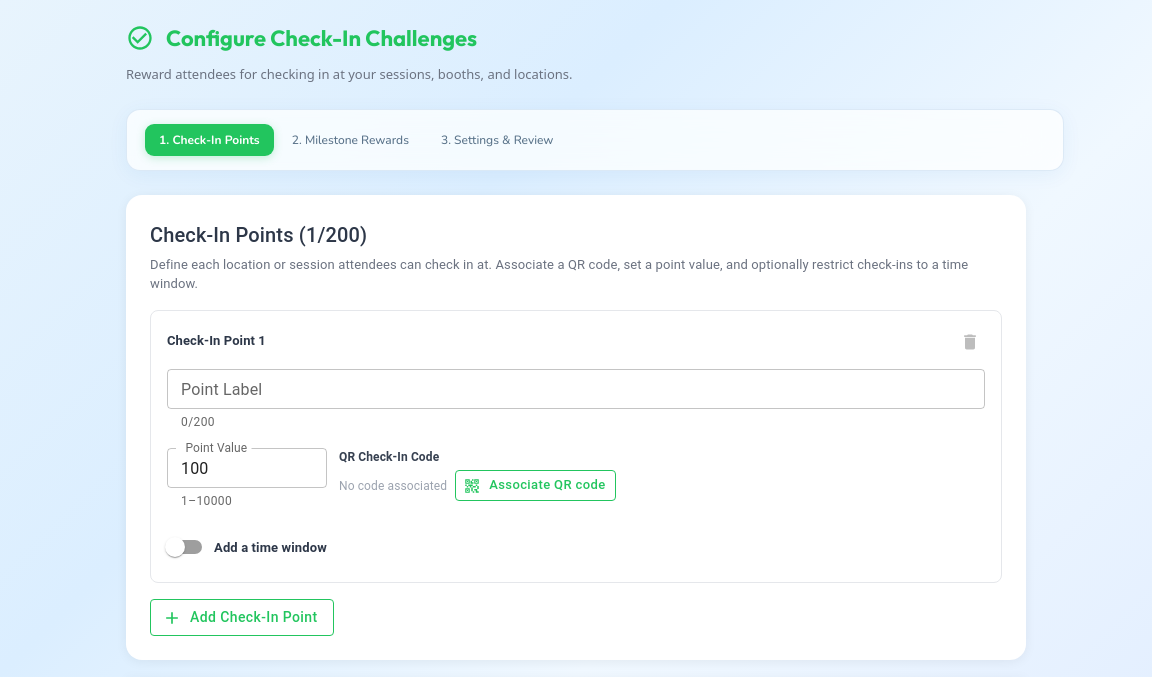
Test case: CheckInChallengeConfig › shows milestone type, reward-label, reward-points, and the per-type condition control
The image size is (1152, 677).
Click the button "2. Milestone Rewards": point(350, 140) [278,124,423,156]
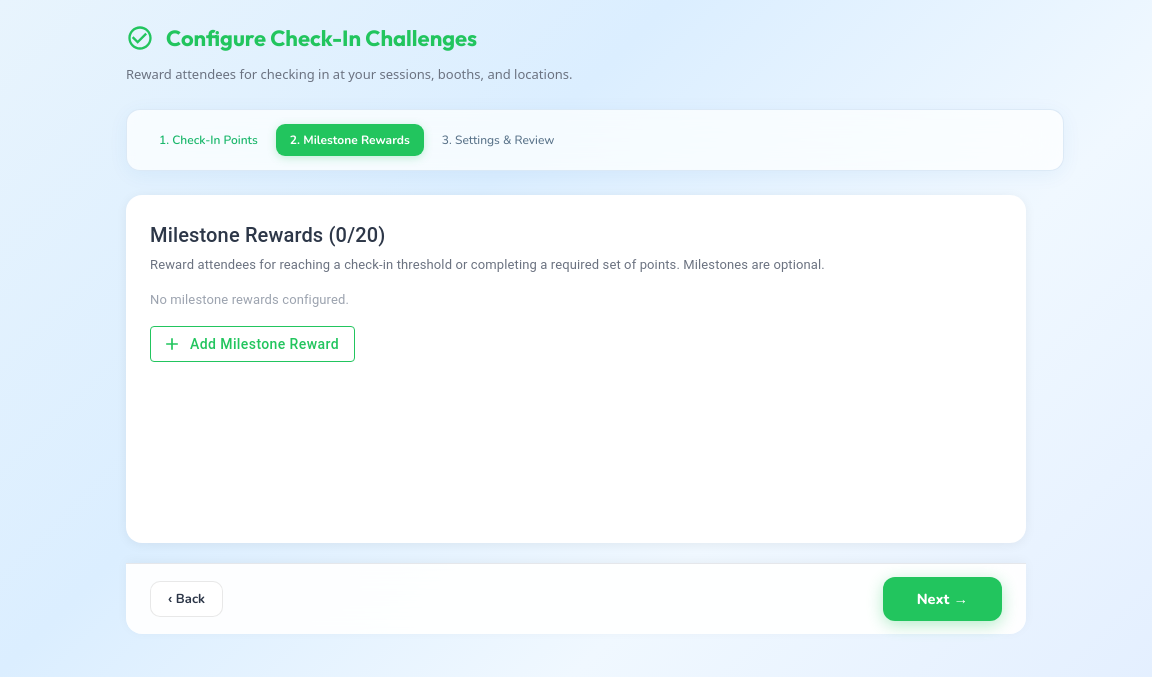
Click the button "Add Milestone Reward": point(252, 344) [150,326,355,362]
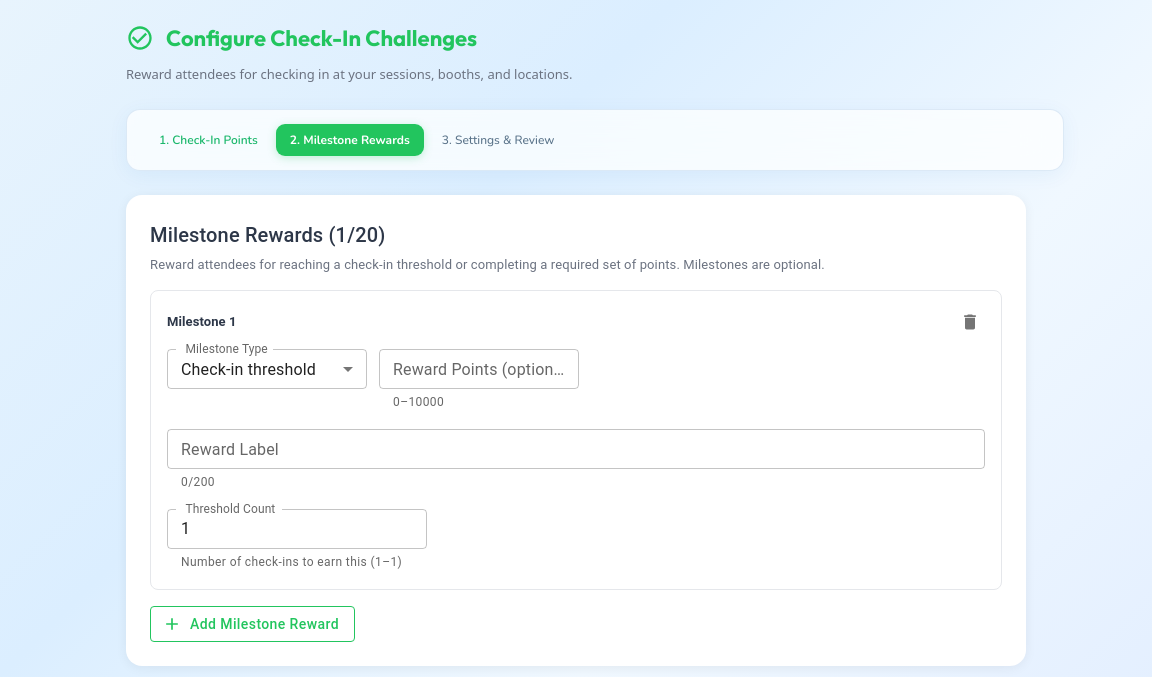
Expected: the element with test id "milestone-editor-0" is shown, [150,290,1002,590]
Expected: the dropdown named "Milestone type for milestone 1" is shown
Expected: the field labelled "Reward Label" is shown, [167,429,985,469]
Press the mouse on the dropdown named "Milestone type for milestone 1": point(248, 369) [181,360,316,378]
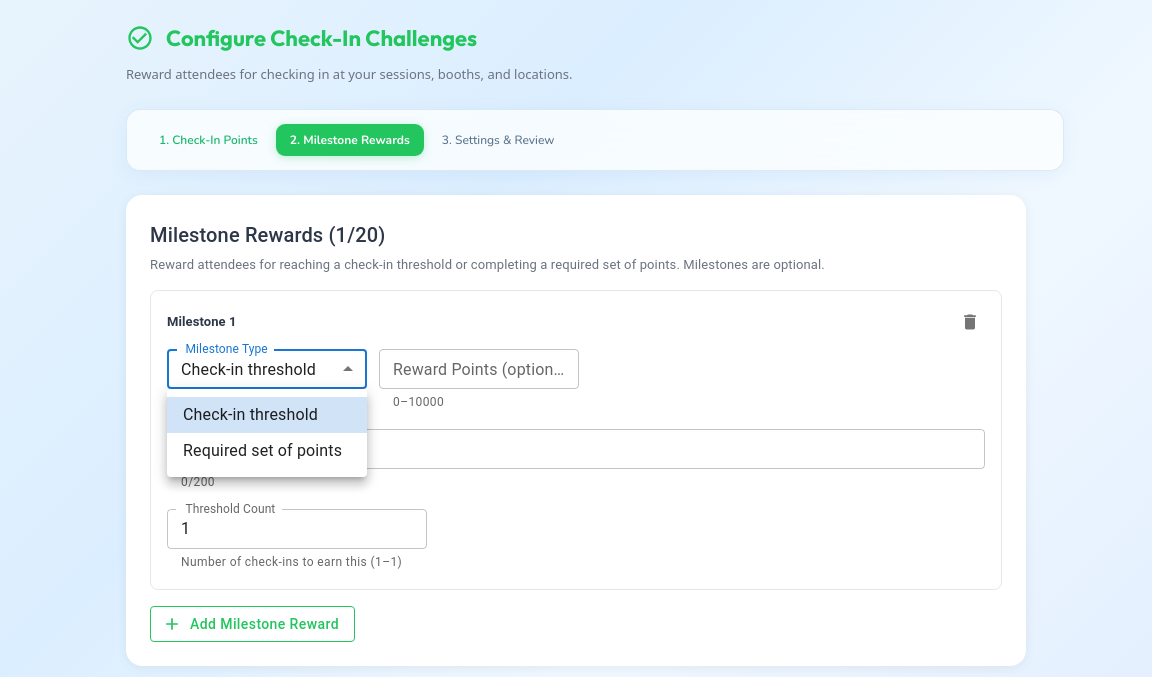
Click the option "Required set of points": point(263, 450) [183,441,342,460]
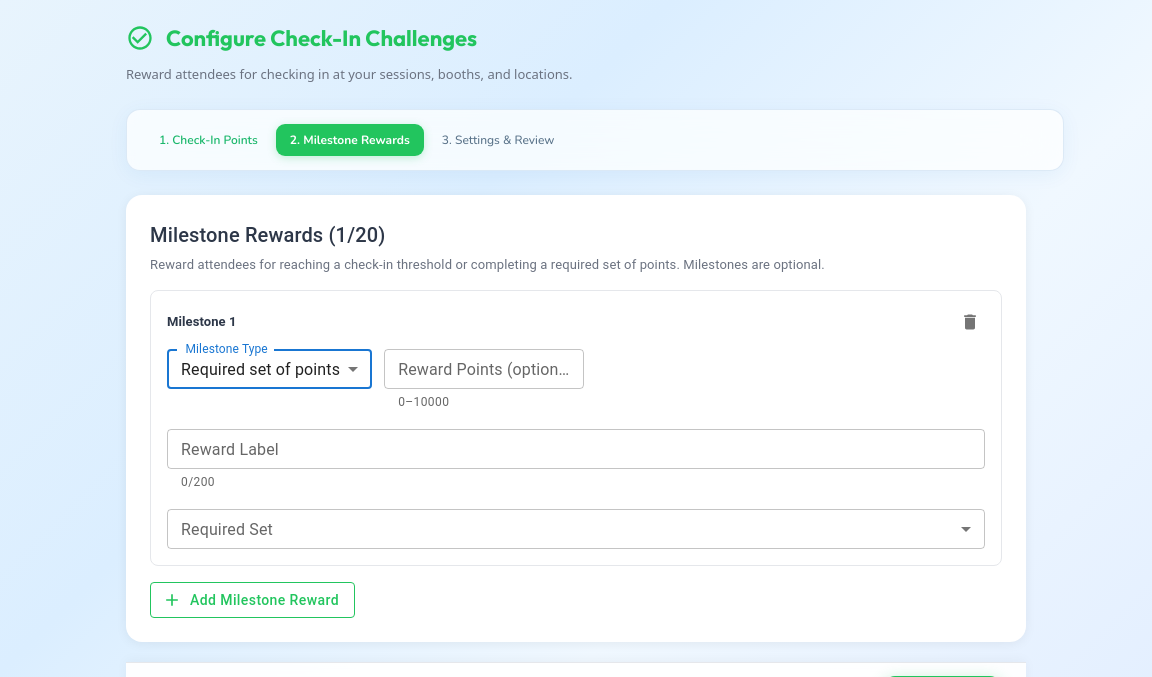
Expected: the dropdown named "Required set for milestone 1" is shown, [167,509,985,549]
Expected: the label labelled "Threshold Count" is gone
